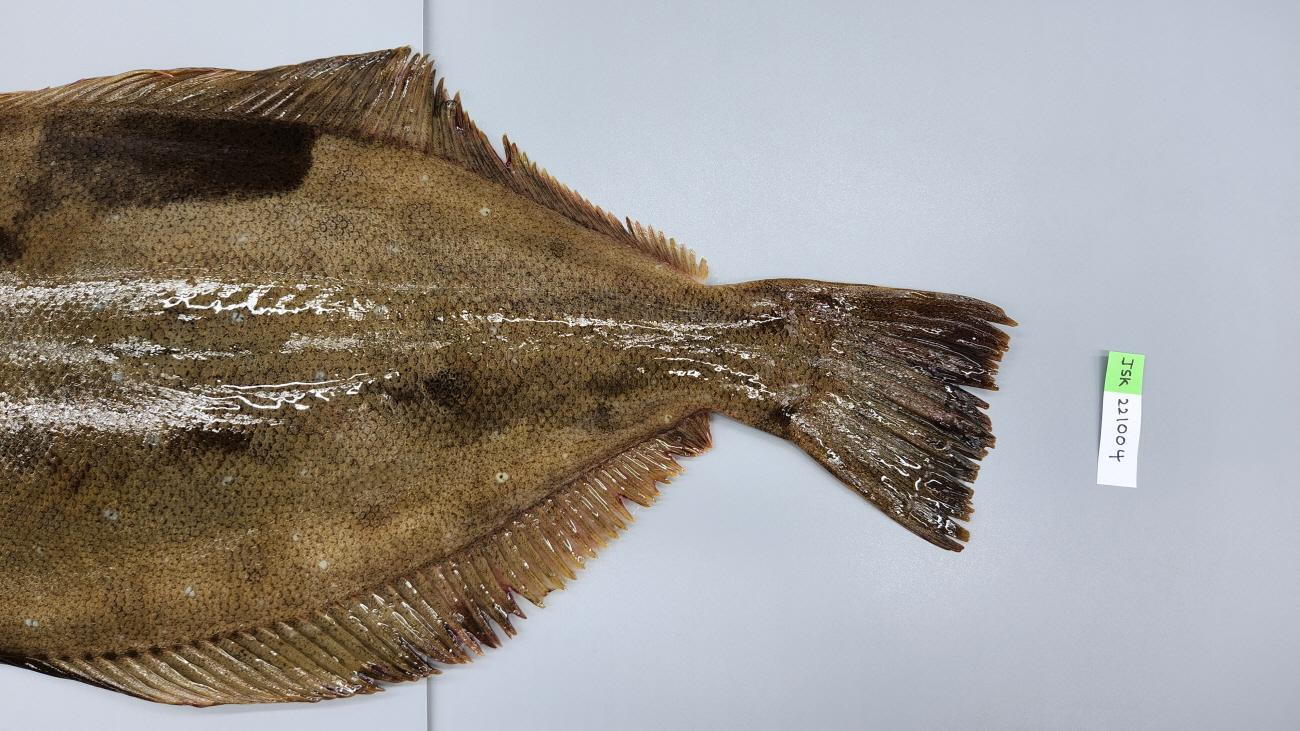POOUN: (0, 43, 1018, 707)
